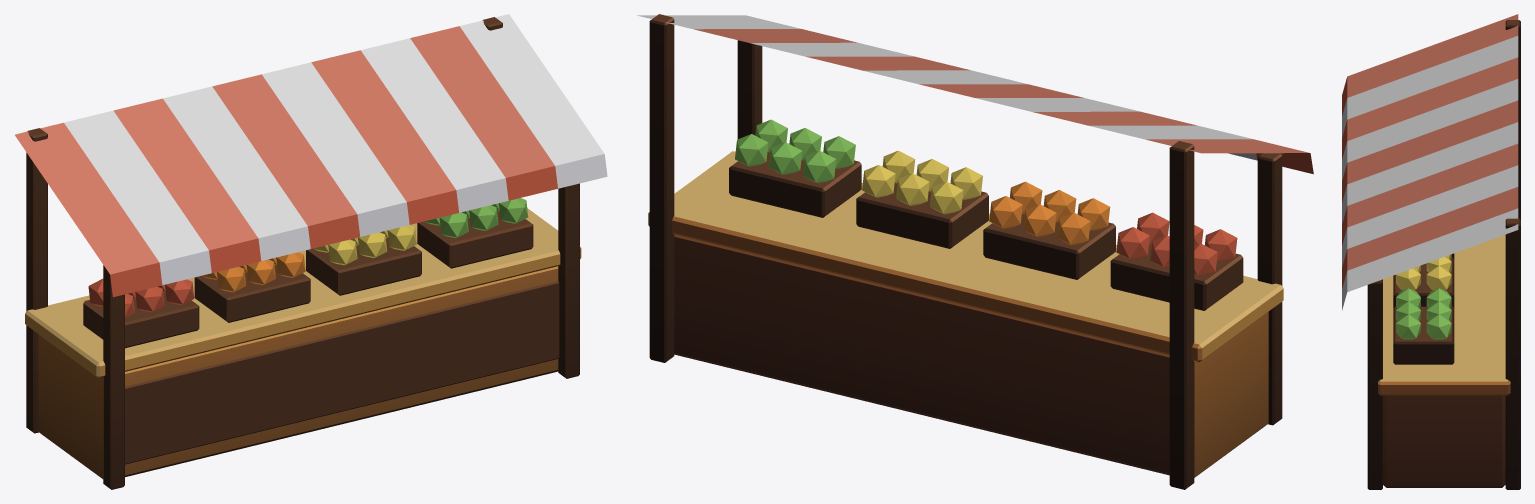
File: market_stall.glb
3 renders of one model, left to right at view 1: azimuth 30°, elevation 25°; view 2: azimuth 150°, elevation 25°; view 3: azimuth 270°, elevation 25°, orthographic. The views are drawn at different scales.
Visible parts, largest first — view 1: market_stall; view 2: market_stall; view 3: market_stall.
Boxes of the visible parts, x1,y1,x2,y2 form: market_stall: [15, 14, 607, 489]; market_stall: [637, 14, 1313, 489]; market_stall: [1342, 14, 1520, 489].
Size of the model in its own units: 2 by 1.15 by 0.7.
